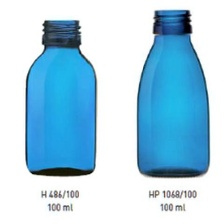bottle: (129, 1, 215, 182), (23, 12, 104, 180)
